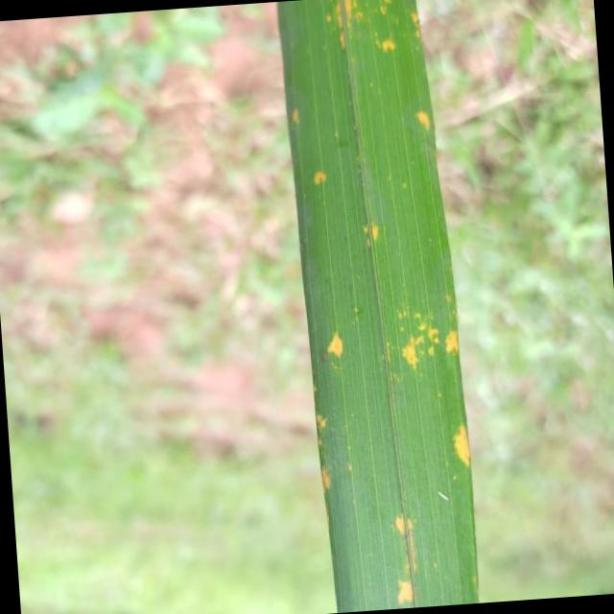Kalium: (280, 5, 481, 614)
